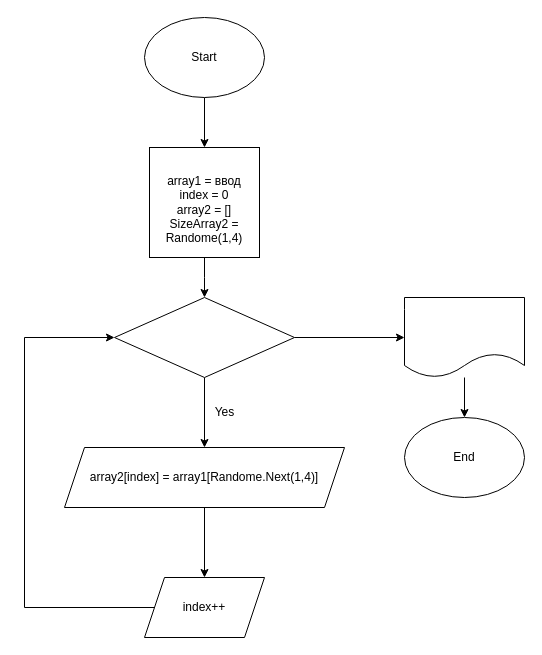
Some shapes in this 542 by 655 pixel diagram are drawn without their labels. The shapes that lost their labels are listed below. From the top down, each one's centre as x and y in pixels, then its label:
(x=204, y=337): index < SizeArray2?
(x=464, y=337): print array2
